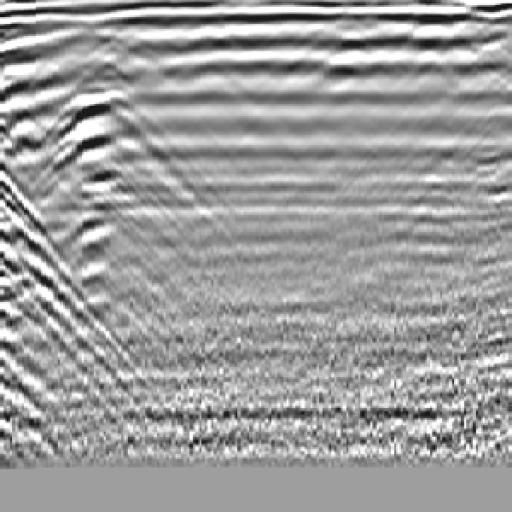metalic: (18, 57, 209, 274)
